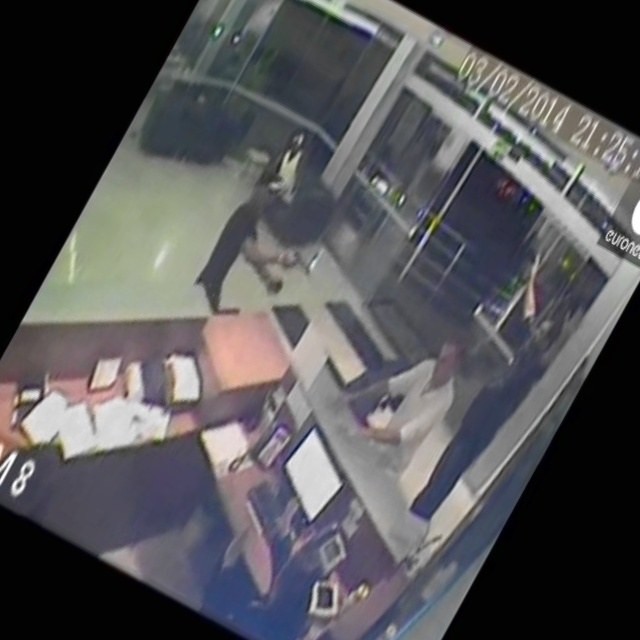gun: (282, 244, 323, 284)
